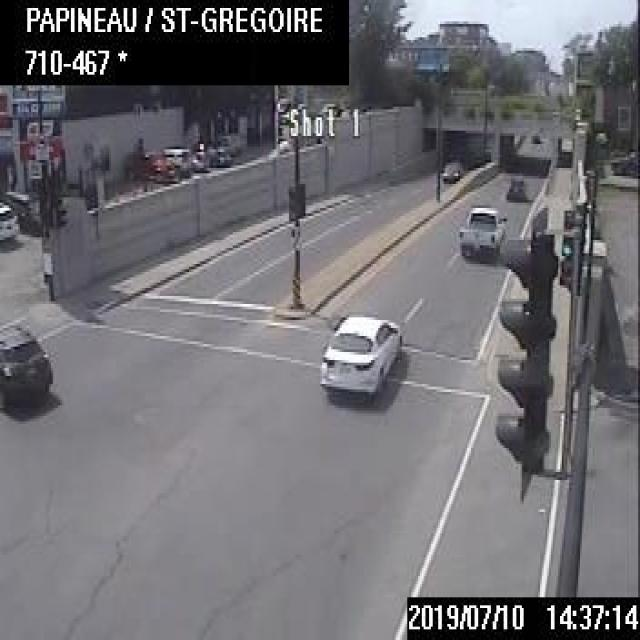vehicle: (316, 310, 402, 398), (0, 315, 51, 408), (456, 203, 504, 256), (122, 145, 177, 186), (0, 198, 20, 246), (609, 148, 638, 178), (164, 145, 190, 175), (440, 160, 462, 182), (506, 176, 526, 199), (530, 131, 538, 141)
